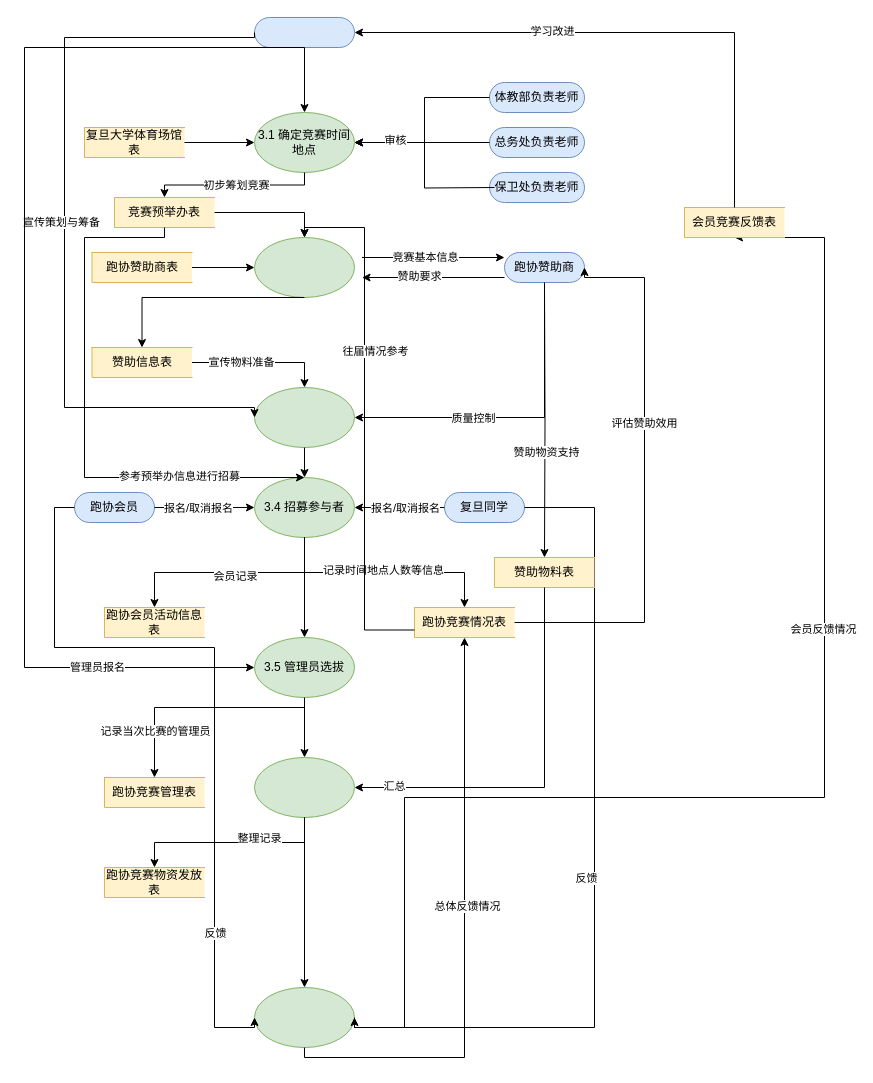
Some shapes in this 873 by 1083 pixel diagram are drawn without their labels. Each missing label, with the centre of its shape:
3.2 招标赞助商: (304,267)
3.3 前期宣传: (304,417)
3.6 物资整理和分发: (304,787)
3.7 竞赛后反馈: (304,1017)
跑协管理员: (304,32)
